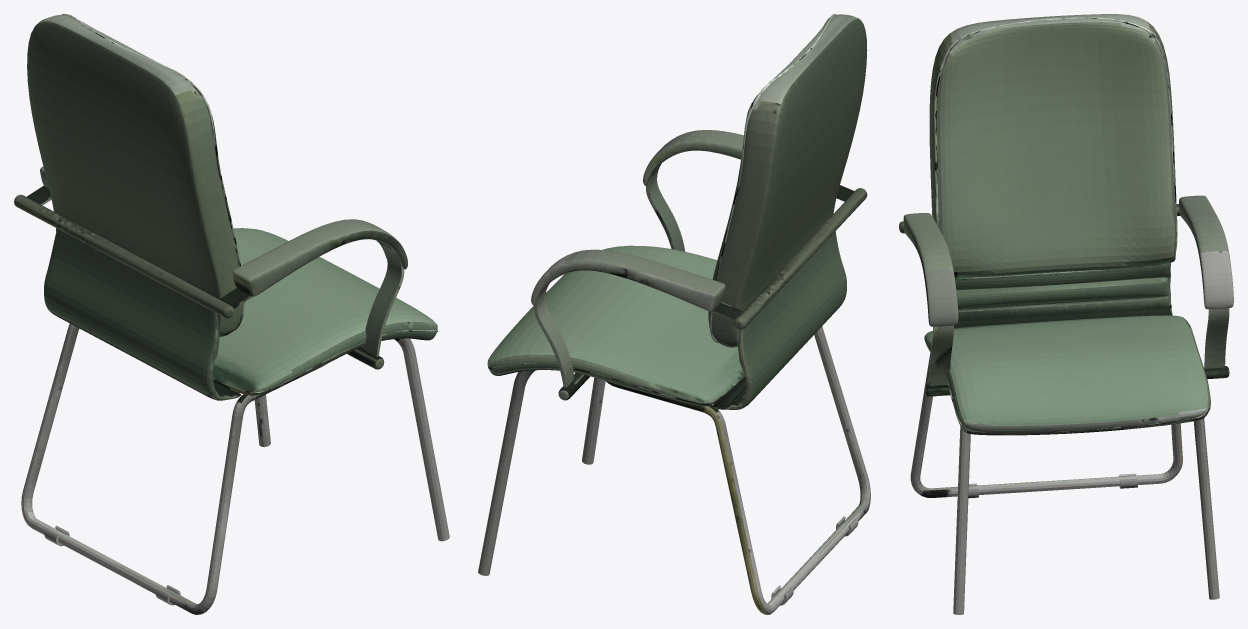
3 views of the same model, side by side, from view 1: azimuth 30°, elevation 25°; view 2: azimuth 150°, elevation 25°; view 3: azimuth 270°, elevation 25° (orthographic). The views are drawn at different scales.
Parts seen in each view (by area): view 1: Node; view 2: Node; view 3: Node.
Part boxes in pixels (bbox=[...]): Node: bbox=[14, 14, 449, 614]; Node: bbox=[478, 14, 870, 614]; Node: bbox=[899, 14, 1233, 614].
Size of the model in its own units: 0.4295 by 0.7 by 0.4475.
Materials: 1 (1 with a texture image).
